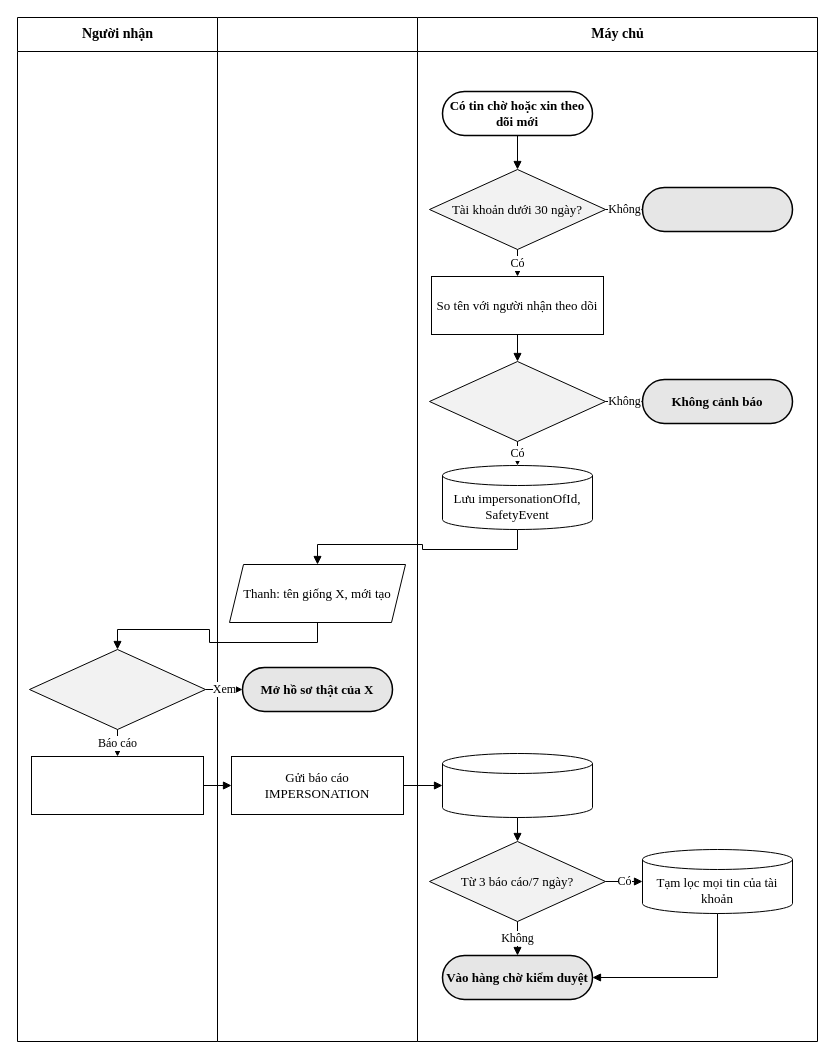
This 835x1059 diagram has some shape labels left out. The box of each missing label's shape, as (x1, y1, x2, y2) in pixels:
Bấm Báo cáo giả mạo: (30, 756, 204, 814)
Không kiểm tra thêm: (641, 186, 793, 232)
Người nhận chọn?: (28, 648, 206, 730)
Report, xóa yêu cầu, chặn: (442, 752, 592, 818)
Tên giống, khác người?: (428, 360, 606, 442)
Ứng dụng: (216, 16, 418, 1042)
